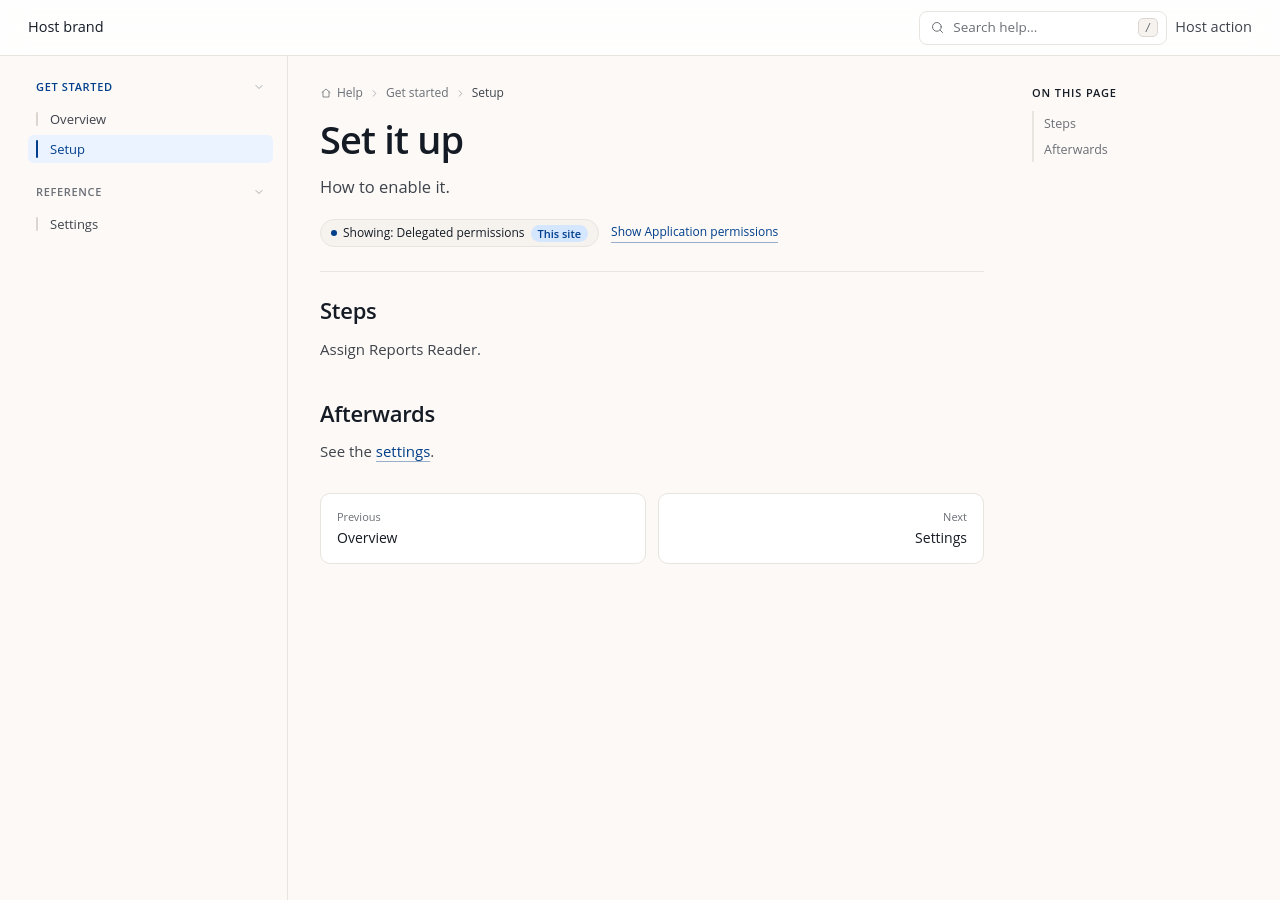
Test: HelpCenter › collapses and expands a topic section
Click the button "Reference" at (150, 192), box left=28, top=177, right=273, bottom=206
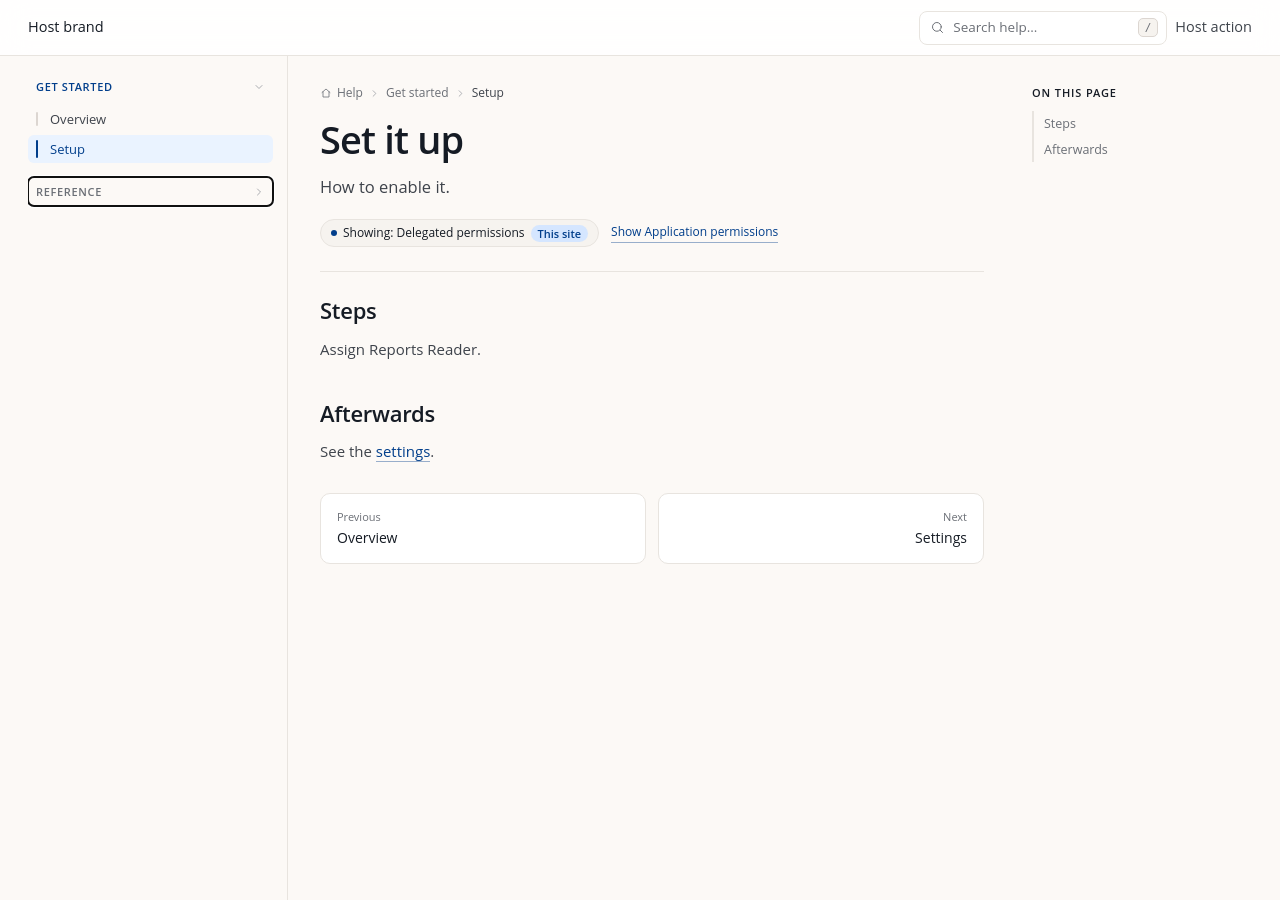
Click the button "Reference" at (150, 192), box left=28, top=177, right=273, bottom=206
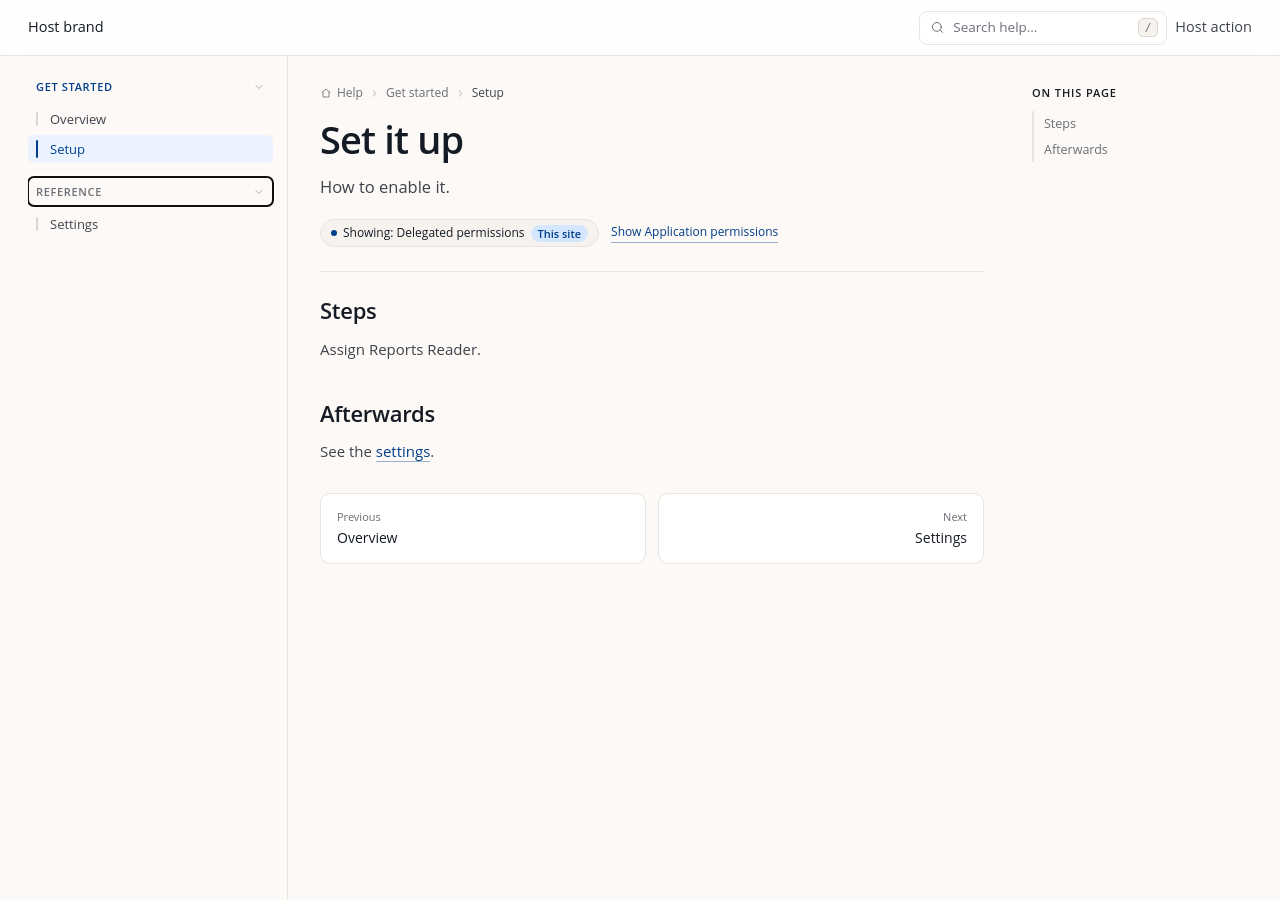
Expected: the link "Settings" is shown, left=50, top=215, right=98, bottom=233
